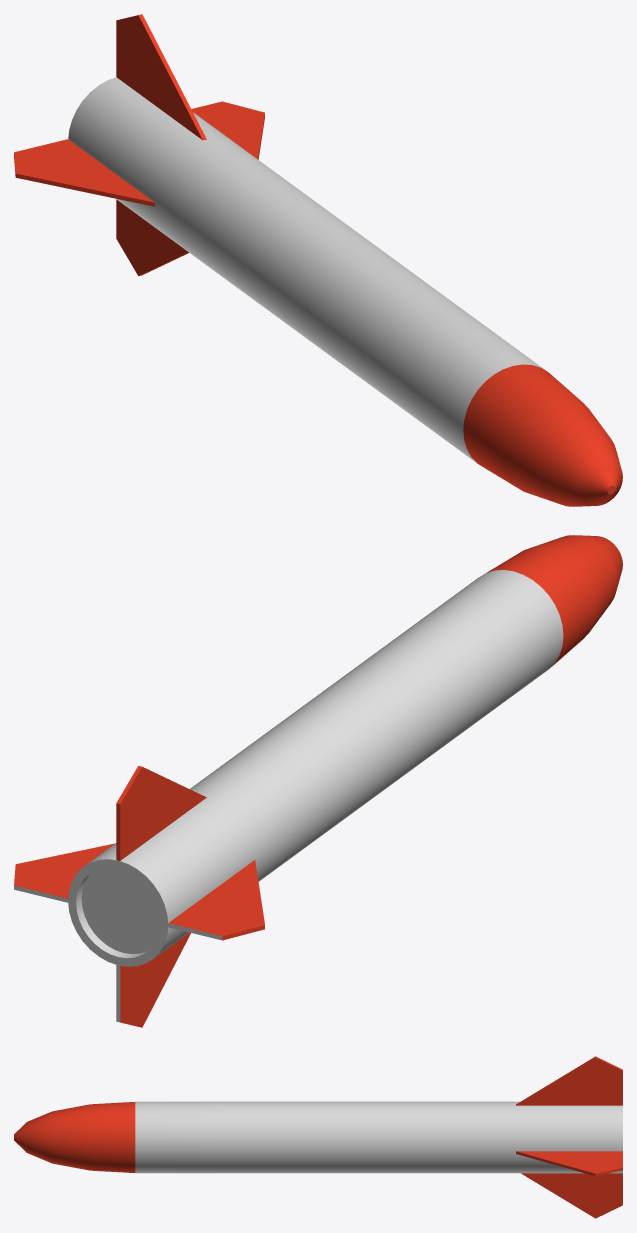
File: missile.glb
3 views of the same model, one above another, from view 1: azimuth 30°, elevation 25°; view 2: azimuth 150°, elevation 25°; view 3: azimuth 270°, elevation 25° (orthographic). The views are drawn at different scales.
Parts seen in each view (by area): view 1: Cube.001; view 2: Cube.001; view 3: Cube.001.
Boxes of the visible parts, left/top/right/bottom form: Cube.001: left=14, top=14, right=622, bottom=506; Cube.001: left=14, top=535, right=622, bottom=1027; Cube.001: left=14, top=1056, right=622, bottom=1218.
Size of the model in its own units: 4.98 by 4.98 by 17.05.
